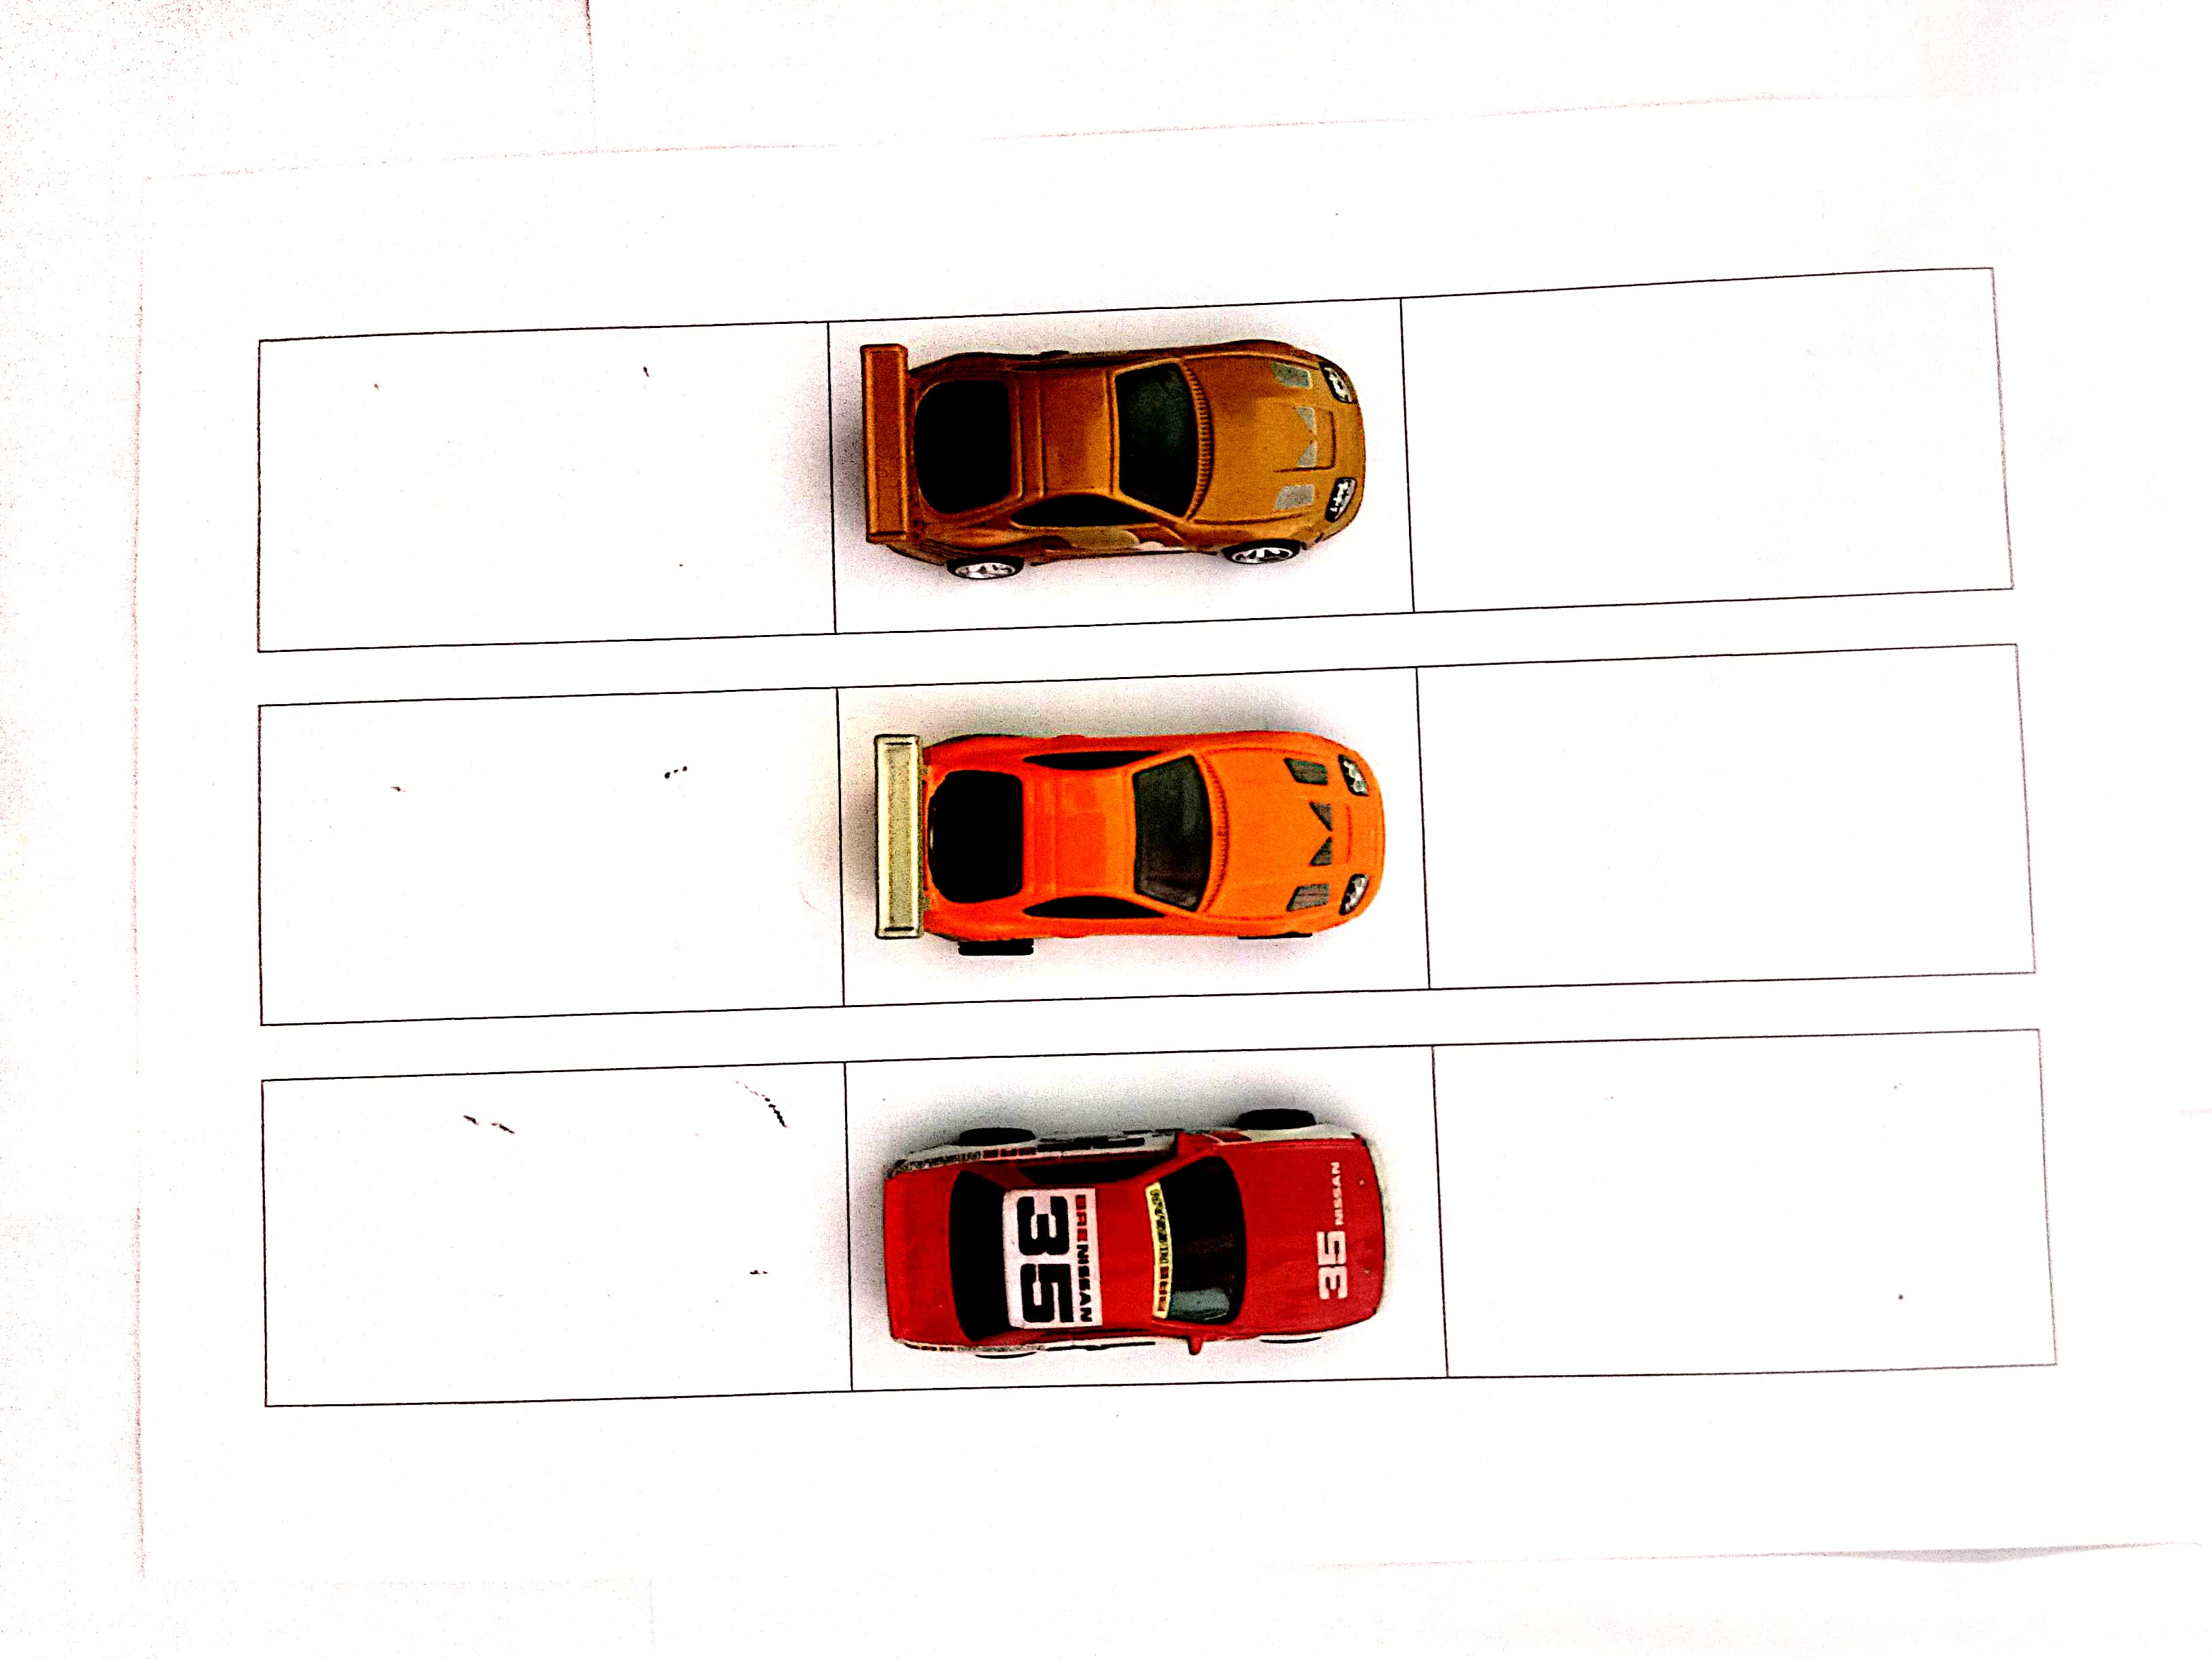Busy: (853, 1049, 1437, 1389), (843, 674, 1416, 1002), (826, 300, 1406, 615)
Free: (1442, 1028, 2033, 1378), (1411, 270, 2008, 603), (1425, 662, 2020, 979), (265, 1073, 860, 1389), (256, 322, 826, 648), (260, 709, 840, 1018)
